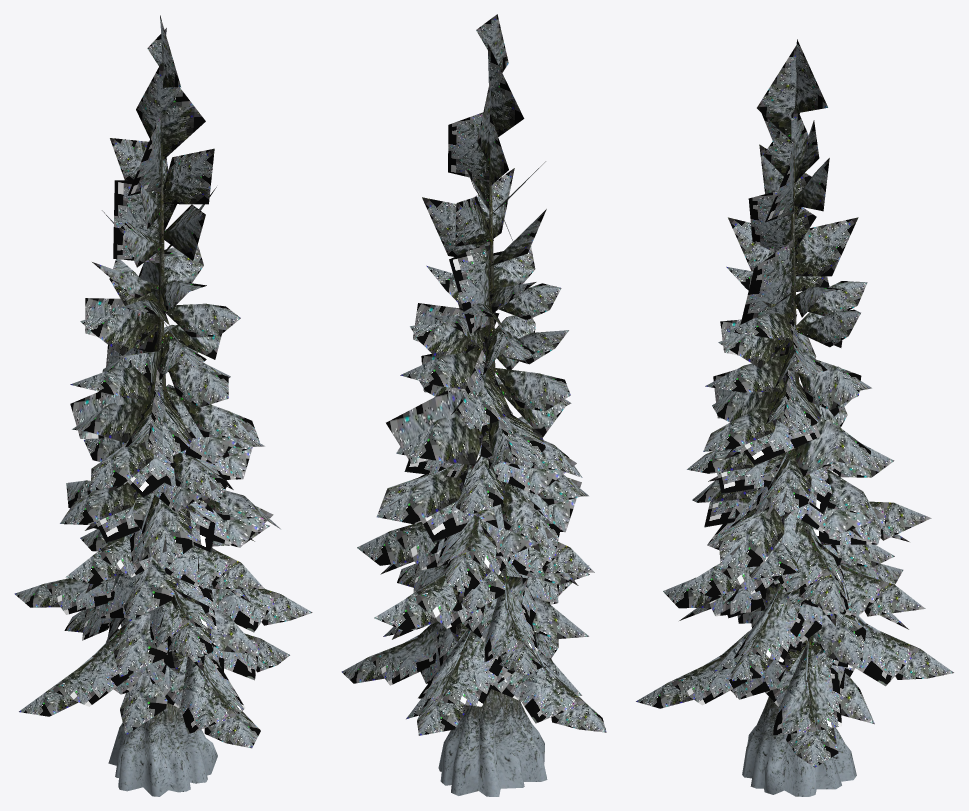
File: treepineforestsnow01-transformed.glb
The picture shows the model from 3 angles, left to right: view 1: azimuth 30°, elevation 25°; view 2: azimuth 150°, elevation 25°; view 3: azimuth 270°, elevation 25°; orthographic projection.
Parts seen in each view (by area): view 1: default; view 2: default; view 3: default.
Boxes of the visible parts, x1=… form: default: x1=14, y1=15, x2=312, y2=796; default: x1=341, y1=14, x2=606, y2=796; default: x1=636, y1=39, x2=953, y2=796.
Bounding box in the file's own units: 9.49 × 25.65 × 9.77.
2 materials, 2 textured.
